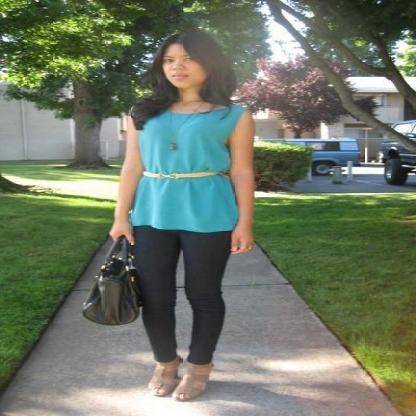bag: (82, 258, 149, 325)
pants: (112, 224, 232, 364)
shirt: (129, 104, 247, 232)
shoe: (150, 360, 220, 402)
